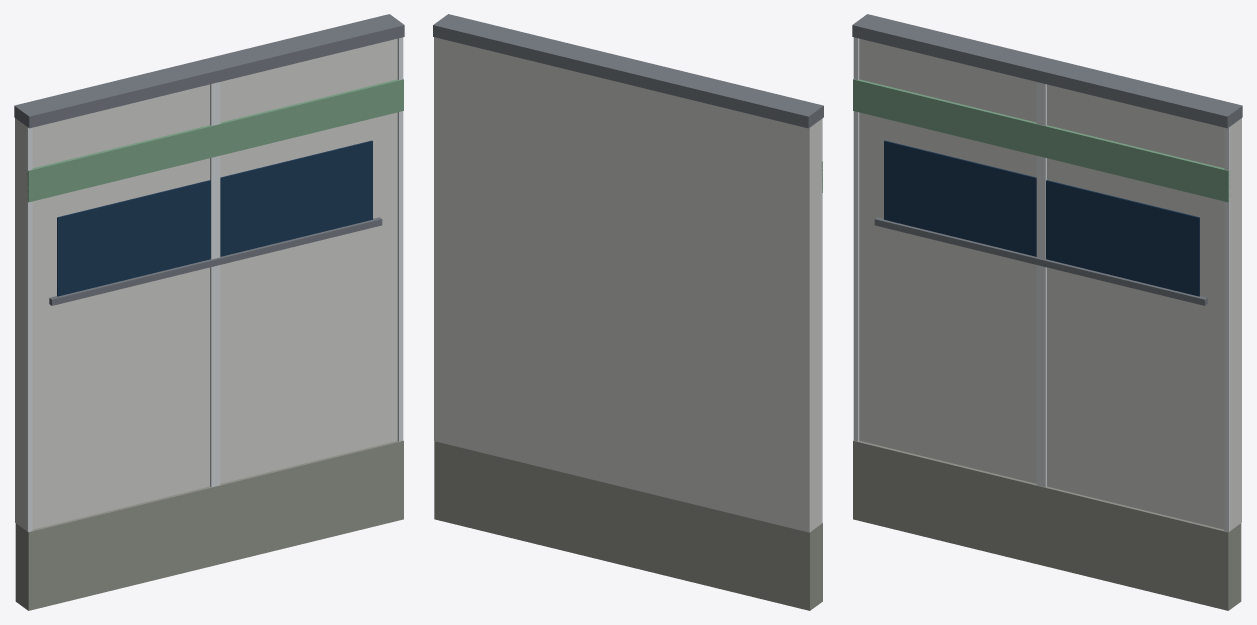
File: mid-w1.fbx
3 views of the same model, side by side, from view 1: azimuth 30°, elevation 25°; view 2: azimuth 150°, elevation 25°; view 3: azimuth 330°, elevation 25° (orthographic).
Visible parts, largest first — view 1: a1061/0/mid-w1; view 2: a1061/0/mid-w1; view 3: a1061/0/mid-w1.
Boxes of the visible parts, x1,y1,x2,y2 form: a1061/0/mid-w1: (14,14,404,610); a1061/0/mid-w1: (433,14,823,610); a1061/0/mid-w1: (852,14,1242,610).
Size of the model in its own units: 5 by 6.3 by 0.35.
